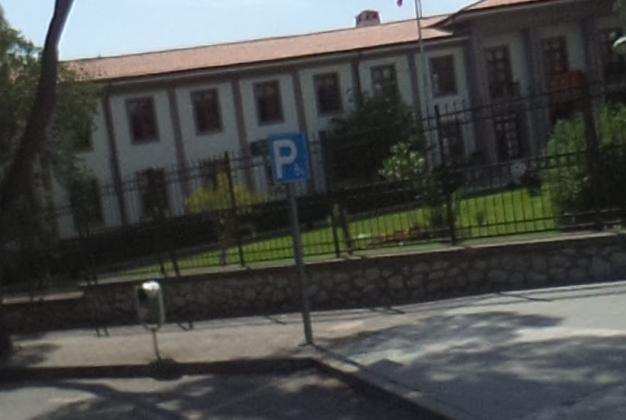disabledpark: (264, 132, 314, 186)
